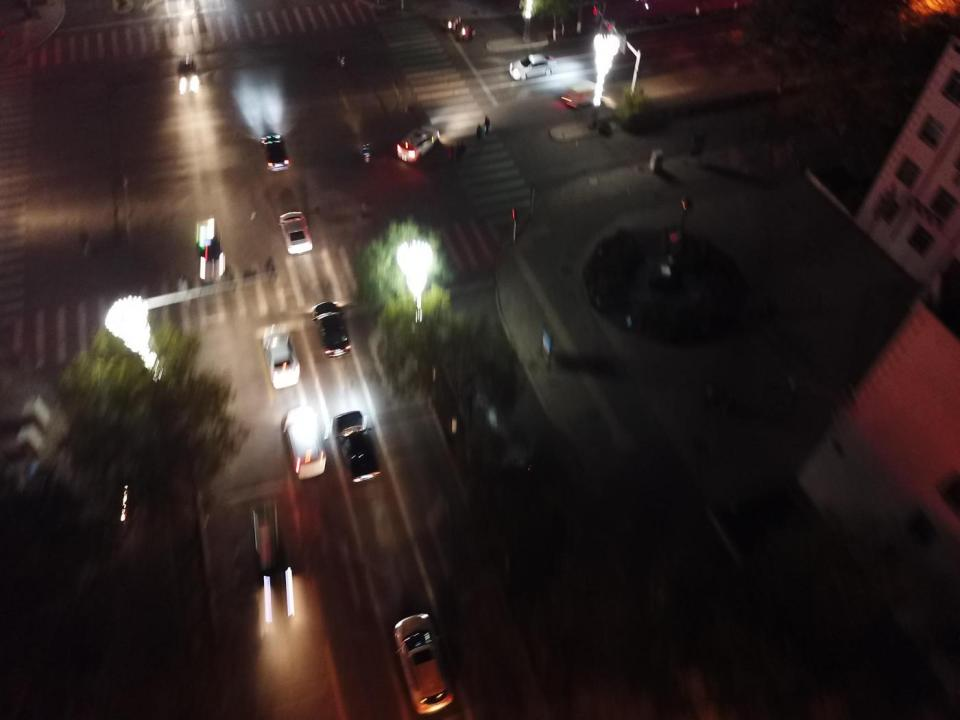car: (393, 614, 456, 714), (250, 500, 296, 590), (330, 411, 382, 482), (284, 407, 328, 479), (264, 324, 300, 390), (312, 300, 351, 358), (196, 217, 224, 282), (396, 124, 439, 163), (280, 212, 313, 254), (509, 53, 557, 80), (261, 134, 290, 172), (176, 55, 199, 92)
truck: (562, 79, 602, 109)
